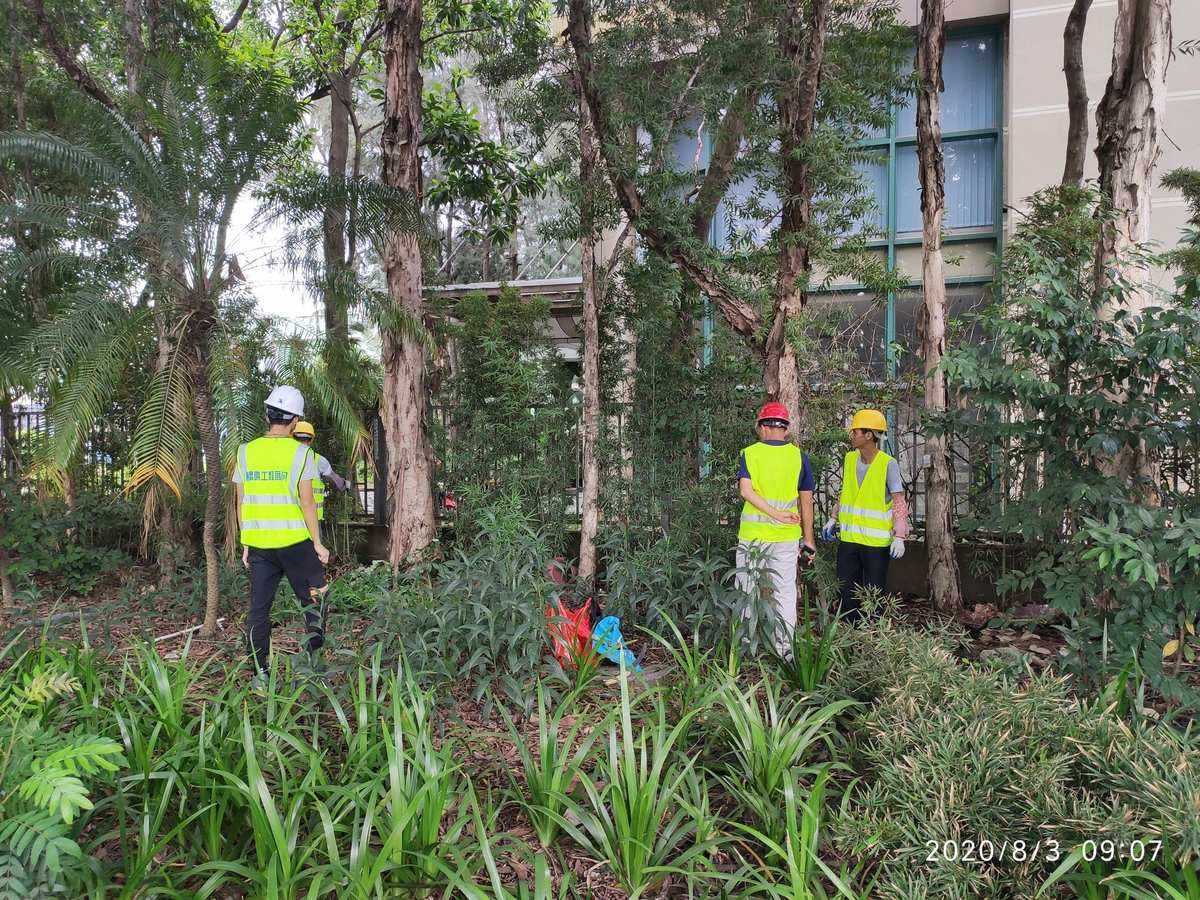person: (231, 382, 330, 679), (729, 401, 819, 665), (819, 408, 911, 632)
reflective_vest: (236, 433, 312, 549), (734, 441, 804, 541), (838, 449, 894, 548)
safety_helmet: (261, 381, 305, 433), (752, 399, 793, 441), (848, 409, 887, 451), (289, 421, 315, 444)
